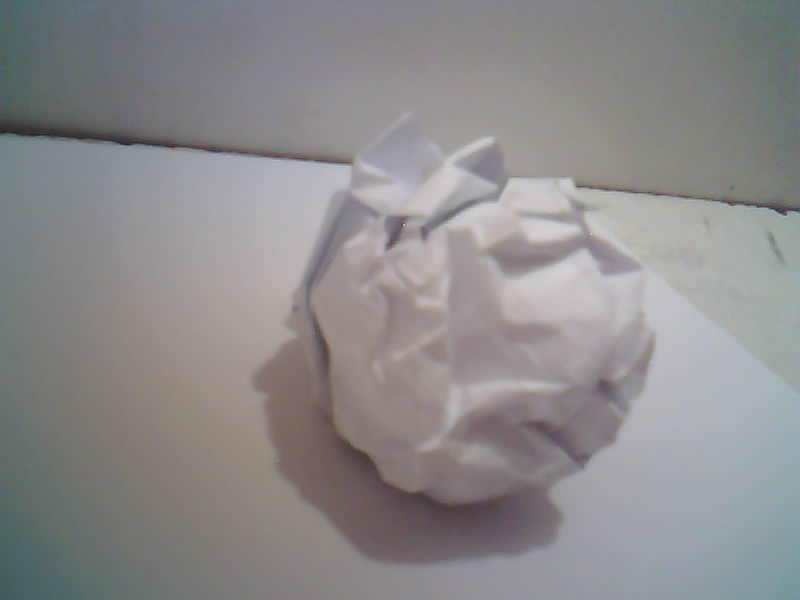biodegradable: (295, 115, 655, 503)
